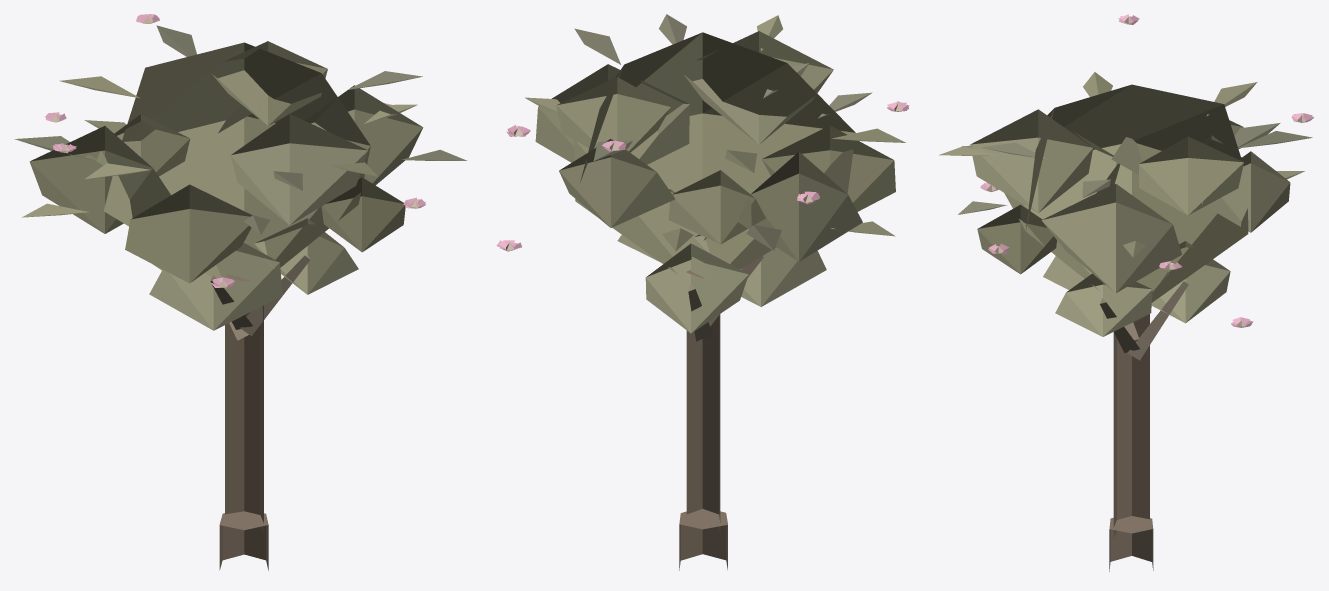
File: shu.paotong@flowering__winter.glb
The picture shows the model from 3 angles, left to right: view 1: azimuth 30°, elevation 25°; view 2: azimuth 150°, elevation 25°; view 3: azimuth 270°, elevation 25°; orthographic projection. The views are drawn at different scales.
Visible parts, largest first — view 1: shu.paotong@flowering__winter; view 2: shu.paotong@flowering__winter; view 3: shu.paotong@flowering__winter.
Boxes of the visible parts, x1,y1,x2,y2 form: shu.paotong@flowering__winter: [14, 14, 467, 570]; shu.paotong@flowering__winter: [496, 14, 909, 570]; shu.paotong@flowering__winter: [939, 14, 1313, 571].
Size of the model in its own units: 12.98 by 16.56 by 11.93.
